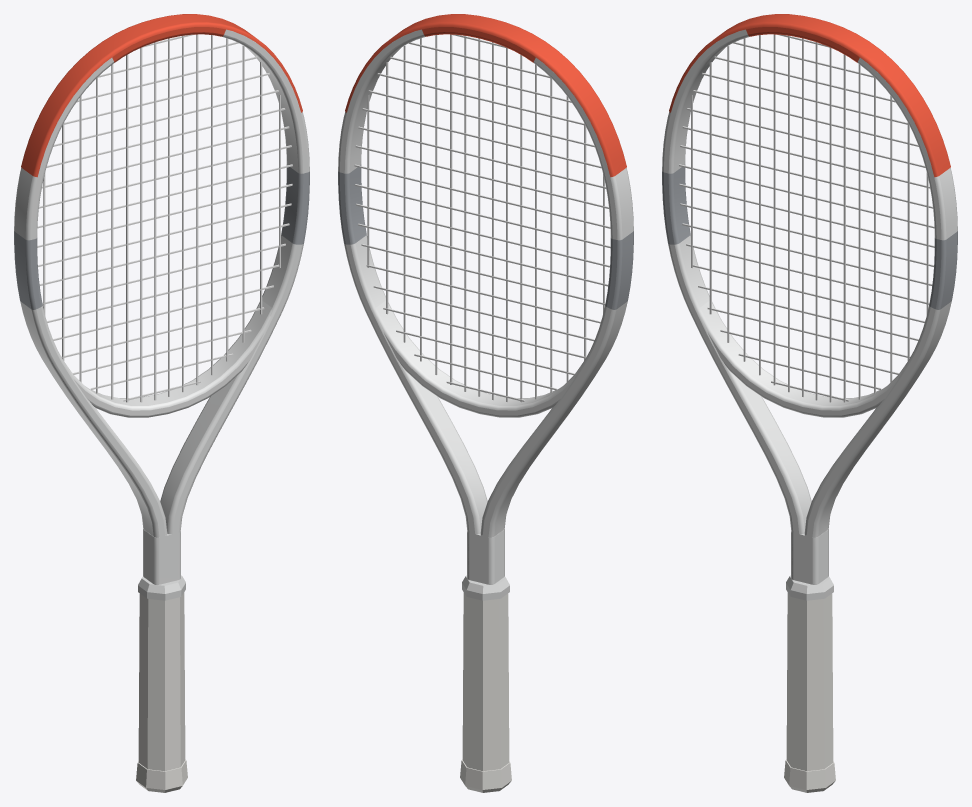
The model's file is babolat-evo-strike-gen2.glb.
3 renders of one model, left to right at view 1: azimuth 30°, elevation 25°; view 2: azimuth 150°, elevation 25°; view 3: azimuth 330°, elevation 25°, orthographic.
Visible parts, largest first — view 1: frame, strings_mains, strings_crosses, grip, bumper, butt_cap, collar; view 2: frame, strings_mains, strings_crosses, grip, bumper, butt_cap, collar; view 3: frame, strings_mains, strings_crosses, grip, bumper, butt_cap, collar.
Boxes of the visible parts, left/top/right/bottom form: frame: left=14, top=27, right=309, bottom=584; strings_mains: left=43, top=34, right=280, bottom=402; strings_crosses: left=37, top=34, right=292, bottom=401; grip: left=138, top=592, right=185, bottom=771; bumper: left=21, top=14, right=302, bottom=177; butt_cap: left=136, top=759, right=187, bottom=792; collar: left=138, top=575, right=185, bottom=600; frame: left=338, top=27, right=633, bottom=584; strings_mains: left=367, top=34, right=604, bottom=402; strings_crosses: left=354, top=34, right=610, bottom=401; grip: left=462, top=592, right=509, bottom=771; bumper: left=345, top=14, right=626, bottom=177; butt_cap: left=460, top=759, right=511, bottom=792; collar: left=462, top=575, right=509, bottom=600; frame: left=662, top=27, right=957, bottom=584; strings_mains: left=691, top=34, right=928, bottom=402; strings_crosses: left=679, top=34, right=934, bottom=401; grip: left=786, top=592, right=833, bottom=771; bumper: left=669, top=14, right=950, bottom=177; butt_cap: left=784, top=759, right=835, bottom=792; collar: left=786, top=575, right=833, bottom=600.
Size of the model in its own units: 0.2683 by 0.6861 by 0.0396.
